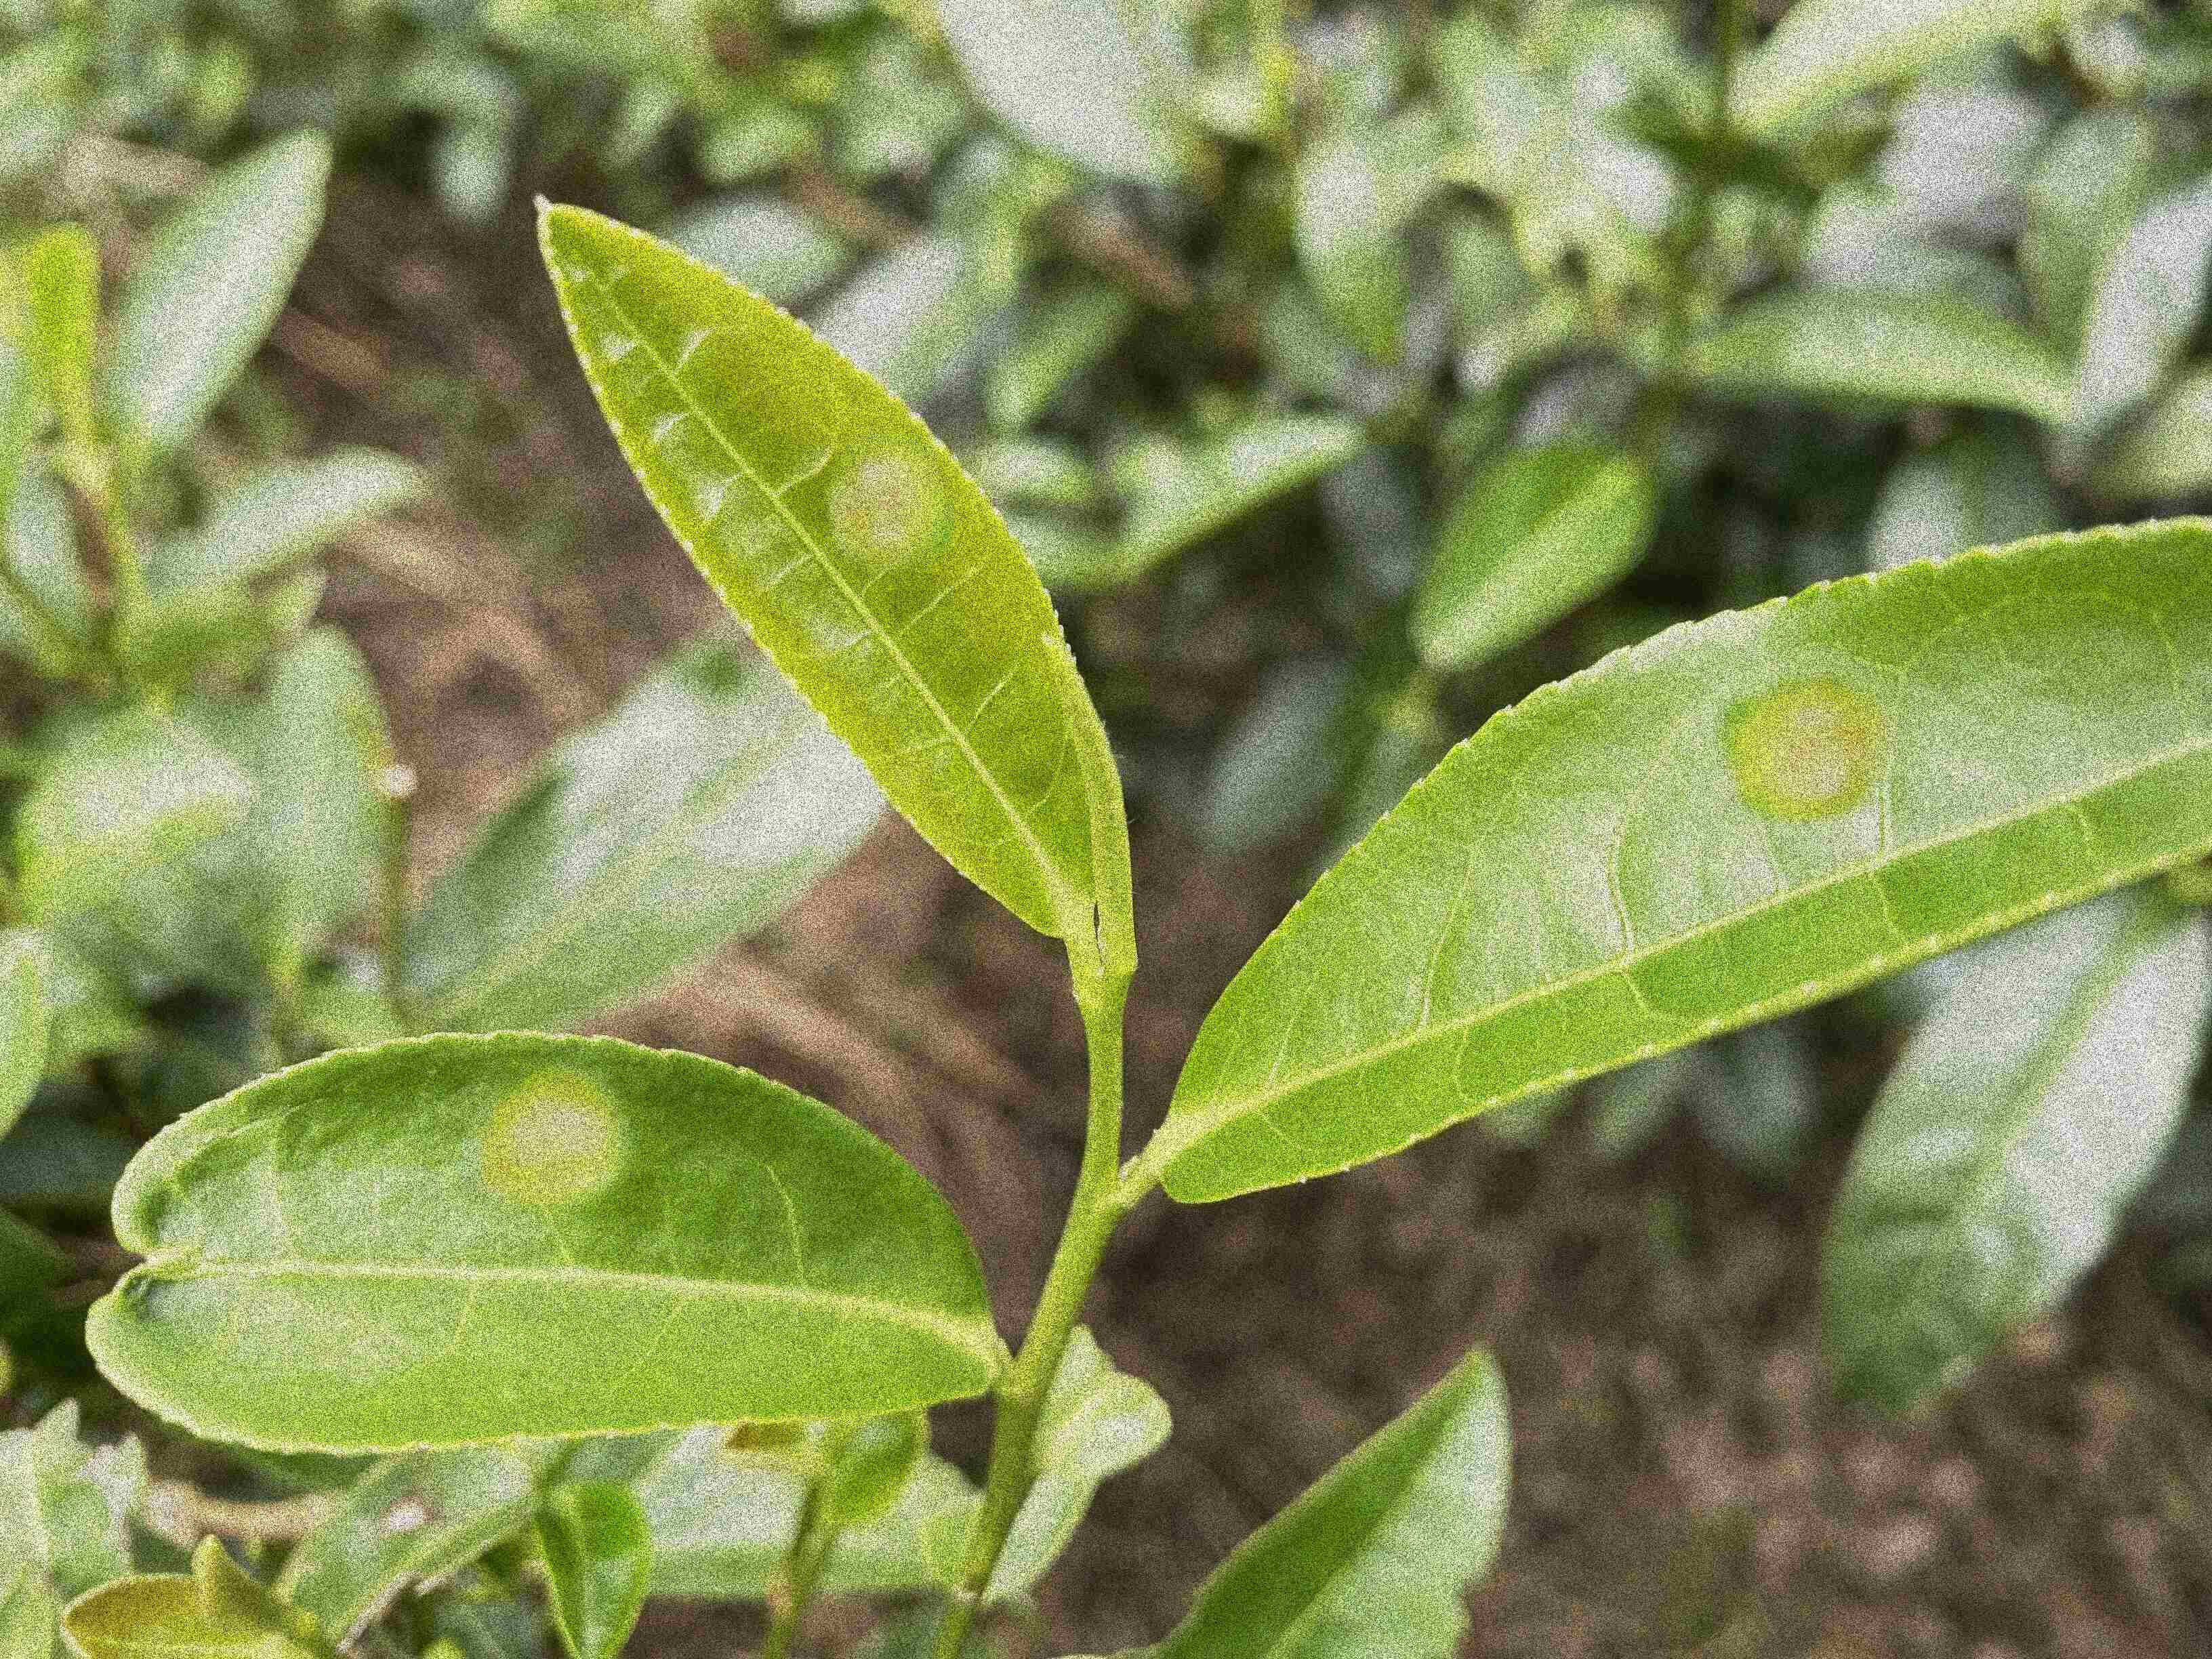chabing_low: (1158, 516, 2209, 1204), (535, 192, 1103, 939), (80, 1028, 1001, 1462)
